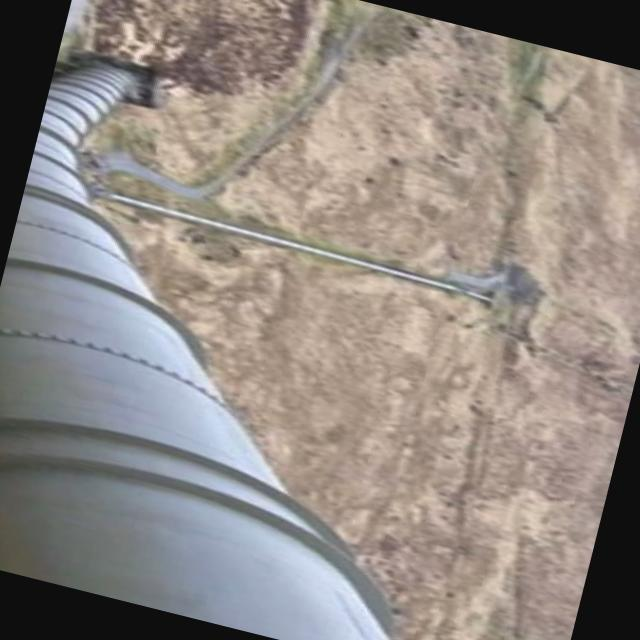gas: (0, 54, 389, 640)
